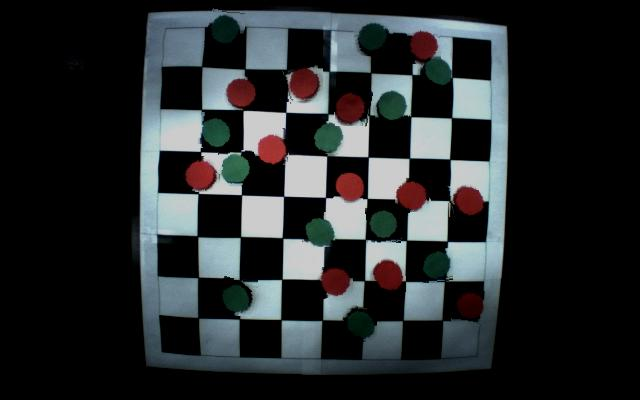g: (217, 278, 258, 316), (206, 10, 245, 49), (354, 20, 394, 56), (340, 304, 377, 342), (366, 205, 401, 243), (219, 150, 254, 186), (300, 212, 336, 247), (198, 113, 233, 148), (374, 88, 409, 123), (313, 121, 346, 155), (420, 249, 453, 283), (421, 53, 452, 88)
r: (284, 65, 323, 102), (447, 180, 486, 217), (335, 86, 371, 126), (184, 156, 222, 192), (223, 74, 260, 110), (394, 175, 430, 212), (371, 257, 406, 292), (452, 289, 487, 324), (255, 129, 289, 165), (333, 170, 367, 206), (407, 27, 440, 63), (318, 265, 353, 298)
